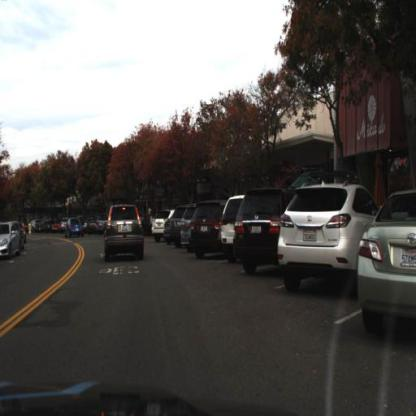car: (274, 180, 366, 298), (360, 190, 416, 342), (233, 185, 283, 277), (101, 202, 147, 264), (188, 198, 224, 258), (220, 192, 244, 266), (1, 219, 28, 263), (63, 215, 88, 243), (165, 218, 173, 244)
